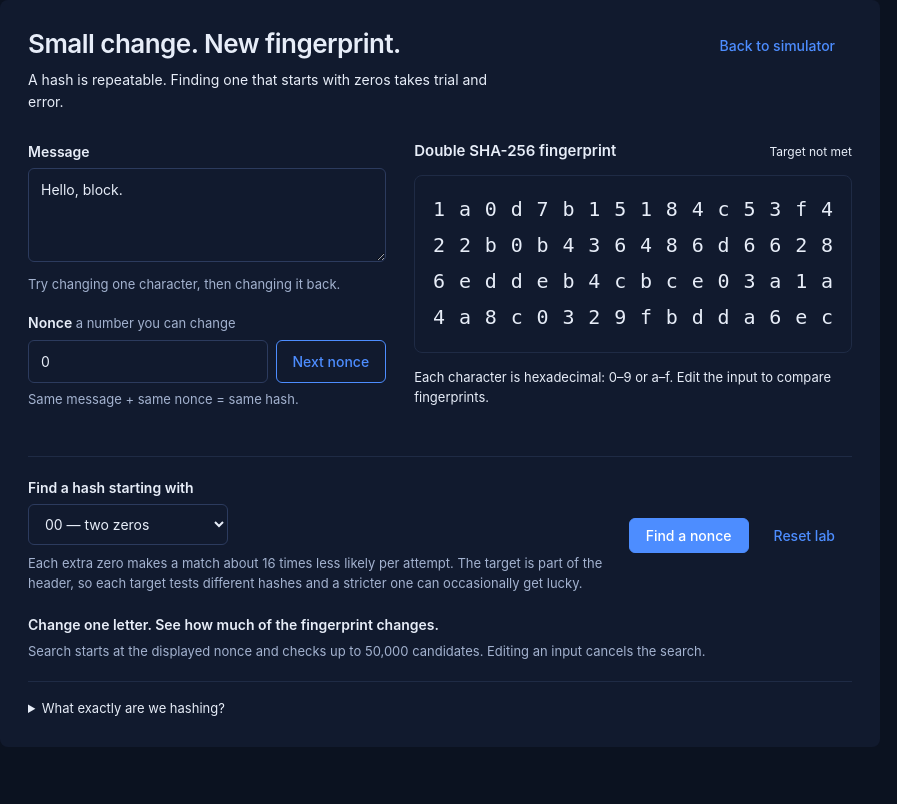
Scenario: HashLab independent interaction › updates/restores fingerprints and exposes invalid nonces
Replace the text in the text box labelled "Message" with "Hello, block?". click: (207, 215)
box: [28,168,386,262]
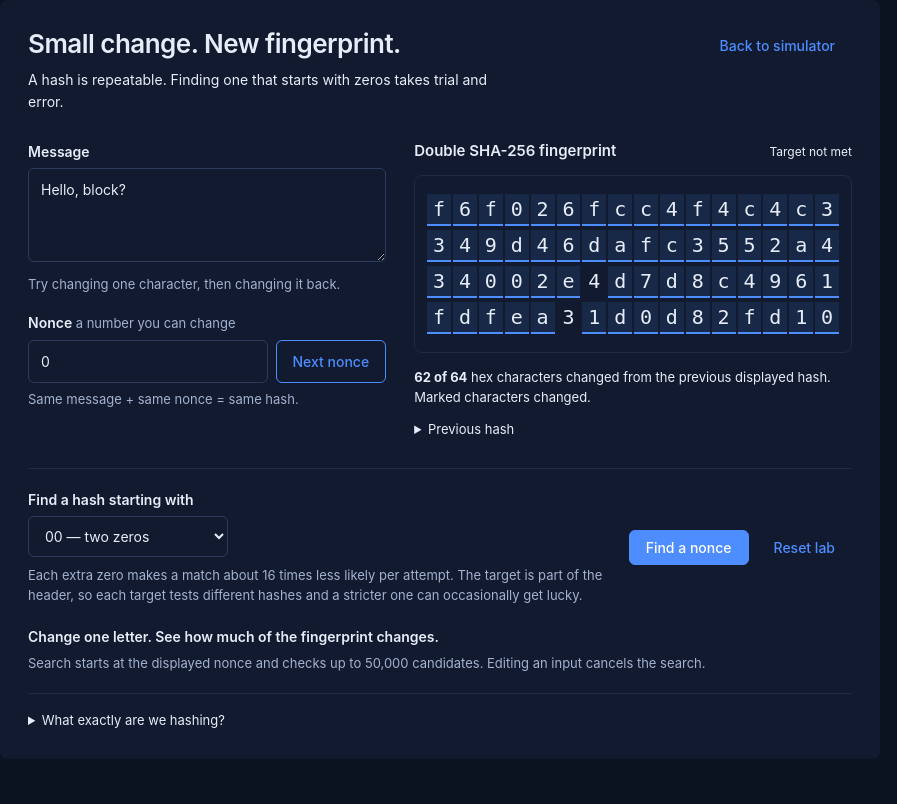
Replace the text in the text box labelled "Message" with "Hello, block.". click: (207, 215)
box: [28,168,386,262]
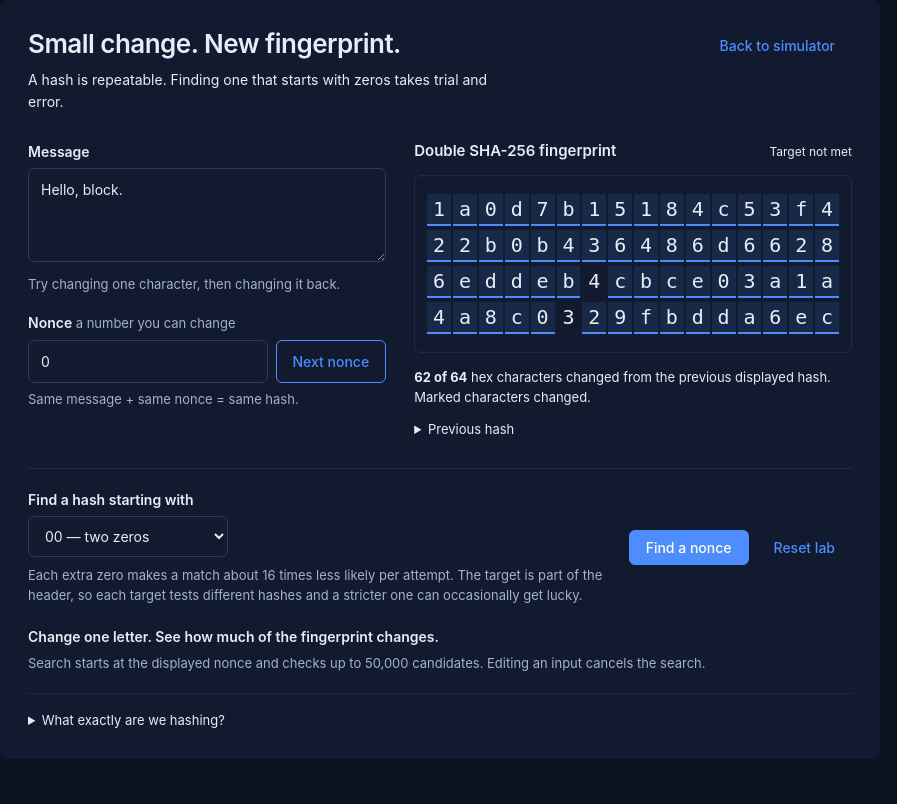
Replace the text in the field labelled "Nonce a number you can change" with "1.5". click: (148, 362)
box: [28,340,268,384]
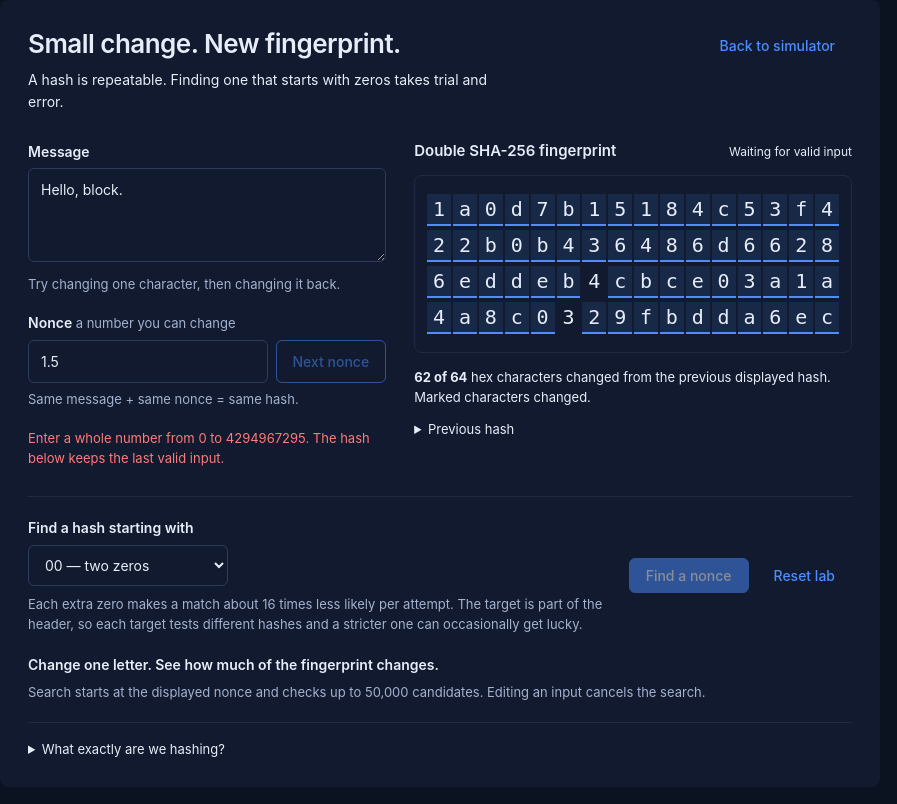
Result: the 1st message shows "whole number" at [28,430,309,446]
Result: the button "Find a nonce" is disabled at [629,558,748,593]
Replace the text in the field labelled "Nonce a number you can change" with "0". click: (148, 362)
box: [28,340,268,384]
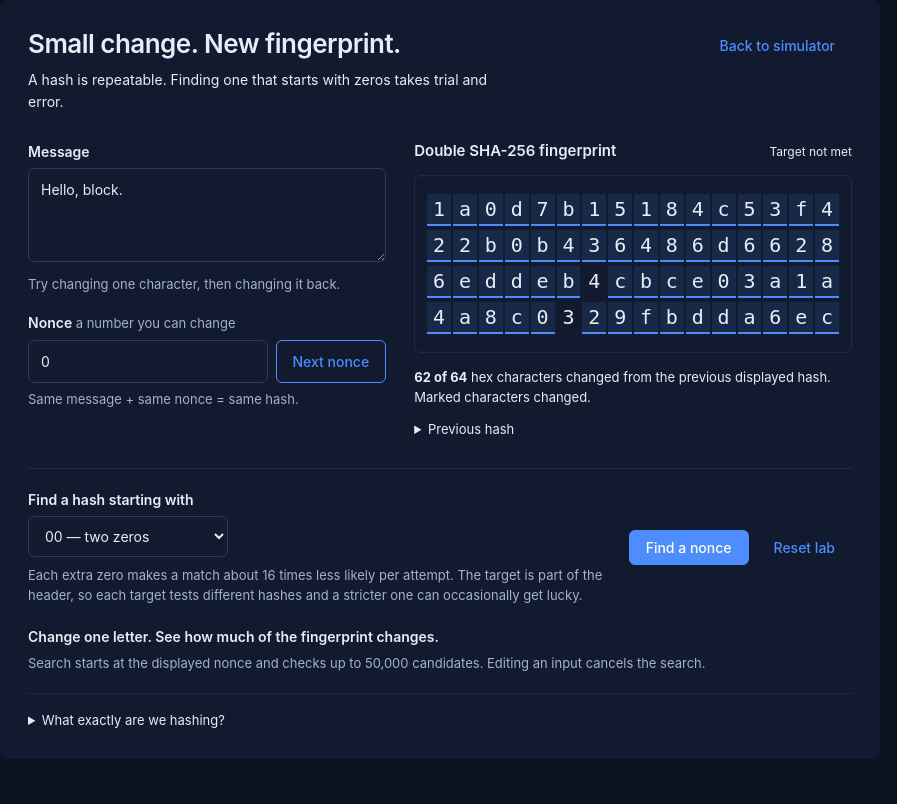
Click the button "Next nonce". click: (331, 362)
box: [276,340,386,384]
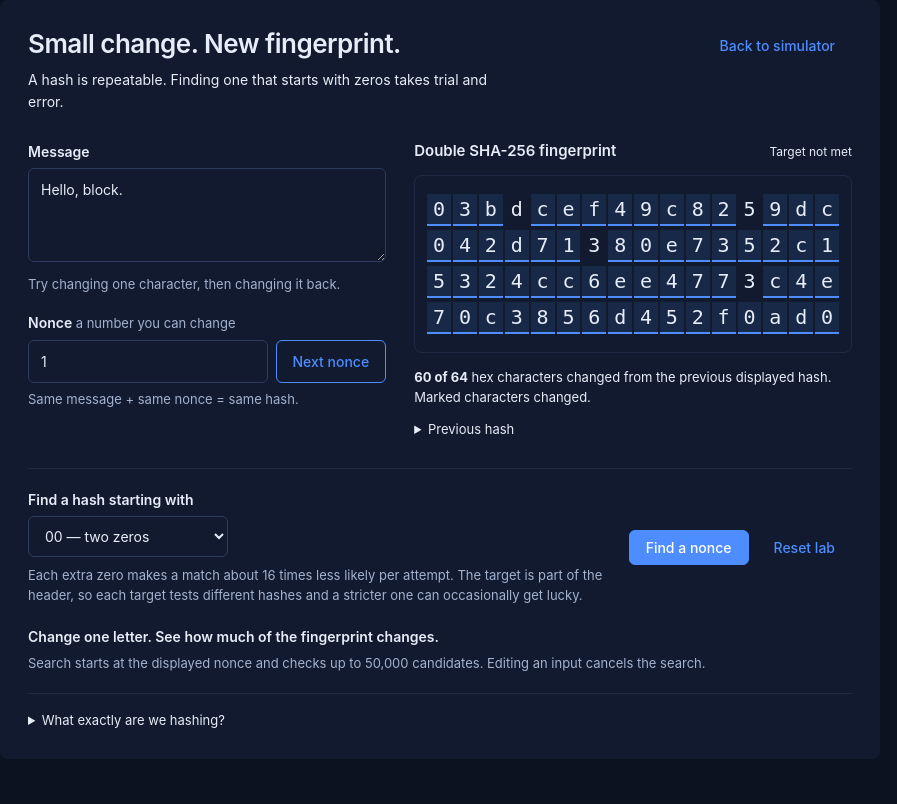
Result: the field labelled "Nonce a number you can change" holds "1" at [28,340,268,384]
